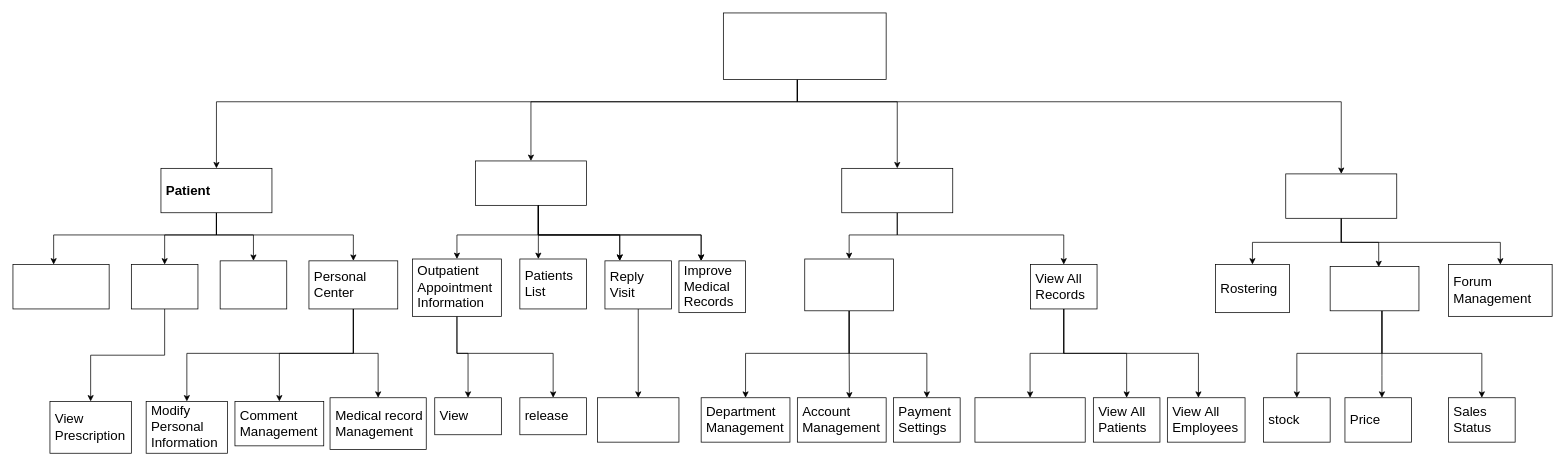
Image size: 1565x466. Some labels were removed from this diagram. Here are the shapes that lost their labels. From the top down, the centre of each, then its label:
At (x=804, y=46): "Online Consultation And Medical Subscription".
At (x=530, y=182): "Doctor".
At (x=897, y=190): "Admin".
At (x=1341, y=195): "Staff".
At (x=60, y=286): "Appointments".
At (x=164, y=286): "Consult".
At (x=253, y=284): "Visit".
At (x=849, y=284): "Hospital Management".
At (x=1374, y=288): "Drug Management".
At (x=638, y=419): "Prescription Drugs".
At (x=1029, y=419): "View All Medical Records".
